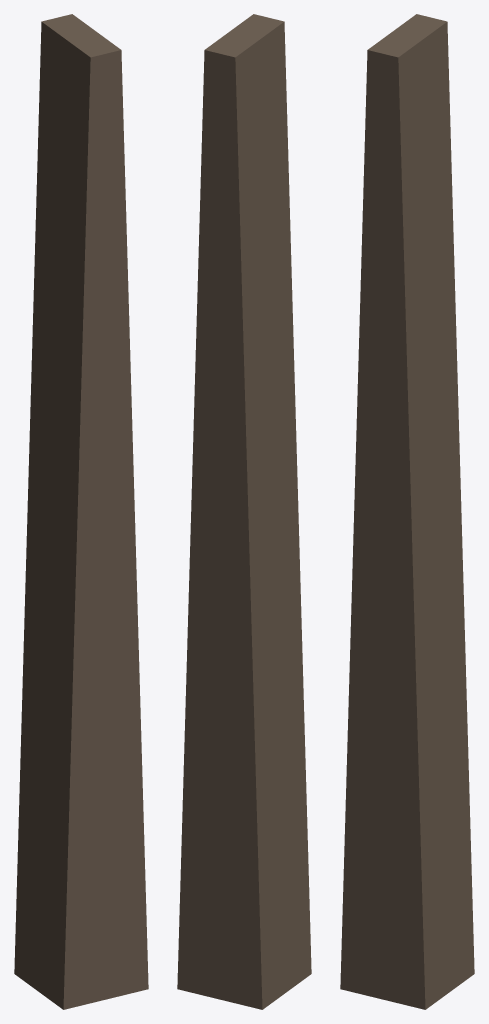
Rendered from Clock1_C2_02.fbx.
3 views of the same model, side by side, from view 1: azimuth 30°, elevation 25°; view 2: azimuth 150°, elevation 25°; view 3: azimuth 330°, elevation 25° (orthographic).
Parts seen in each view (by area): view 1: Clock1_C2_02; view 2: Clock1_C2_02; view 3: Clock1_C2_02.
Boxes of the visible parts, x1=… form: Clock1_C2_02: x1=14, y1=14, x2=148, y2=1009; Clock1_C2_02: x1=177, y1=14, x2=311, y2=1009; Clock1_C2_02: x1=340, y1=14, x2=474, y2=1009.
Size of the model in its own units: 0.7428 by 7.89 by 0.7428.
